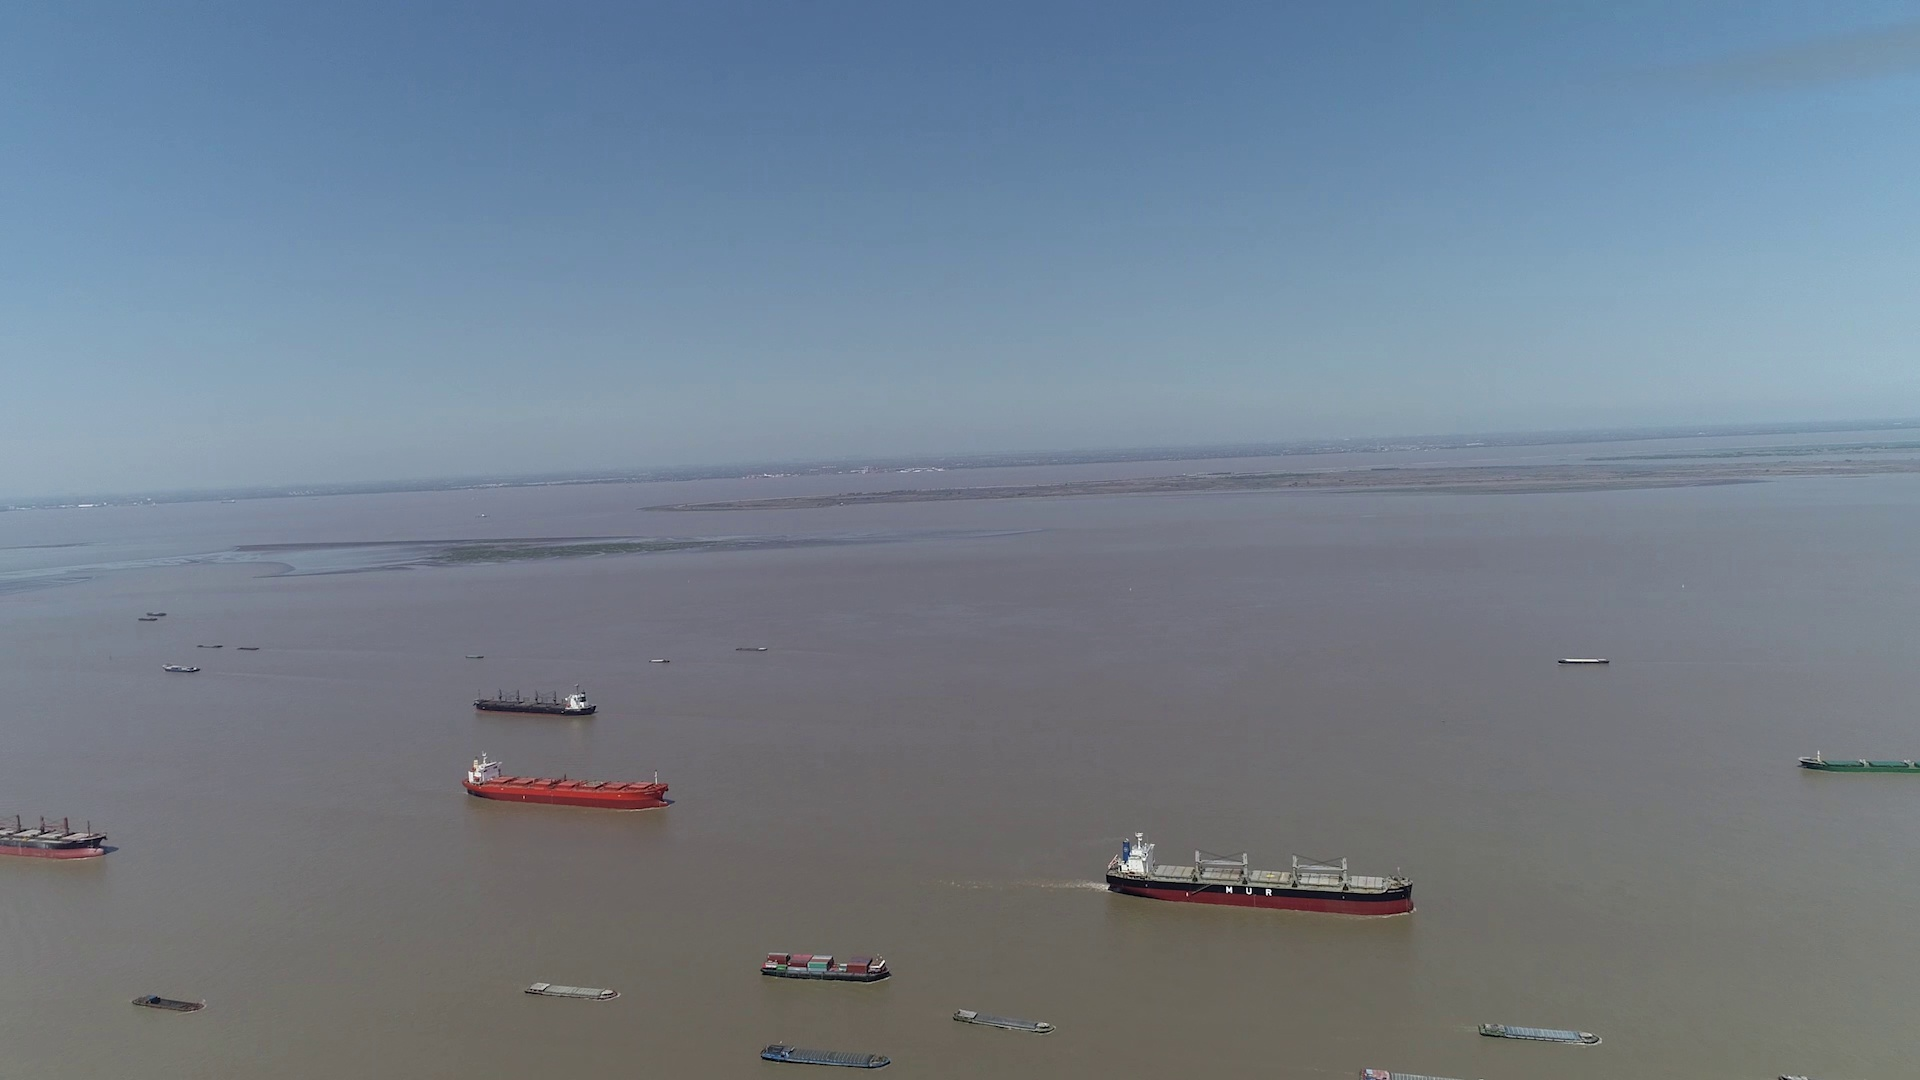ship: (1106, 831, 1418, 915), (463, 749, 669, 810), (1, 798, 111, 861), (758, 948, 891, 982), (475, 684, 597, 717), (758, 1044, 897, 1069), (1797, 750, 1920, 774), (1477, 1021, 1600, 1044), (955, 1007, 1056, 1033), (524, 980, 621, 1001), (131, 996, 207, 1011), (1553, 657, 1607, 665), (162, 662, 202, 673)
